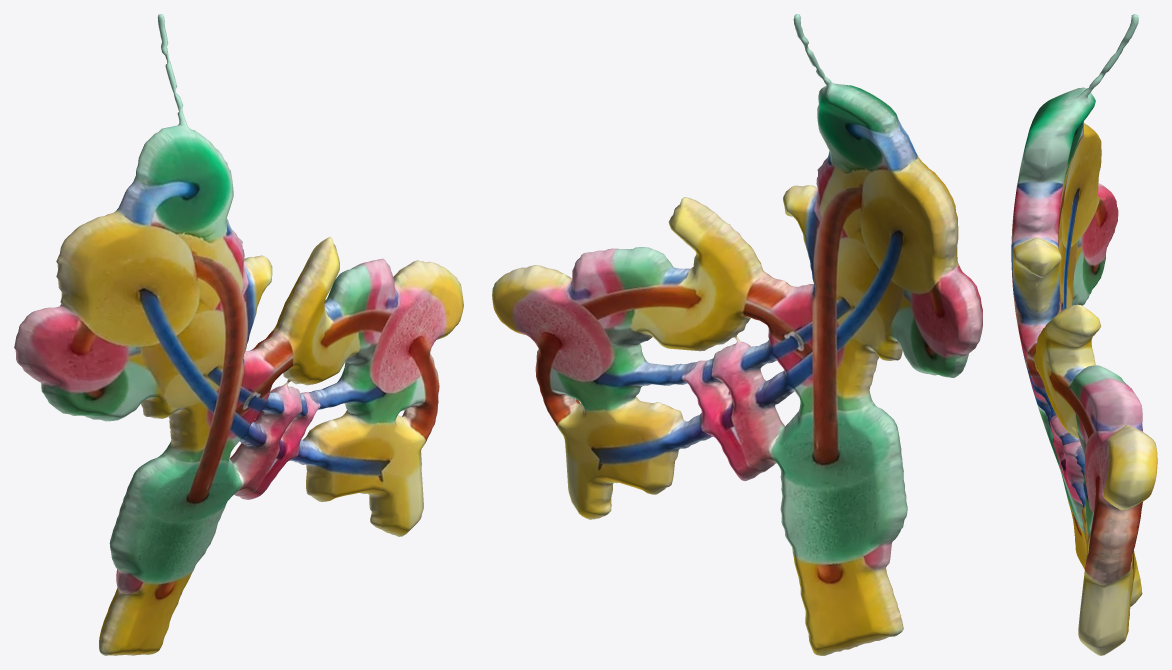
The model's file is hy3d-mov-016.glb.
The picture shows the model from 3 angles, left to right: view 1: azimuth 30°, elevation 25°; view 2: azimuth 150°, elevation 25°; view 3: azimuth 270°, elevation 25°; orthographic projection. The views are drawn at different scales.
Visible parts, largest first — view 1: world; view 2: world; view 3: world.
Boxes of the visible parts, x1,y1,x2,y2 form: world: [14, 14, 463, 655]; world: [492, 14, 982, 655]; world: [1011, 14, 1157, 655].
Bounding box in the file's own units: 1.65 × 2.15 × 0.4728.
Materials: 1 (1 with a texture image).
